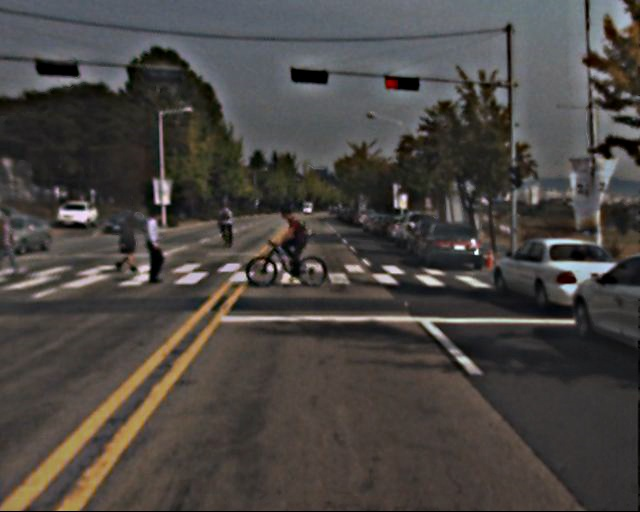person: (284, 203, 320, 276), (143, 206, 174, 282), (117, 213, 143, 270), (218, 200, 239, 245)
